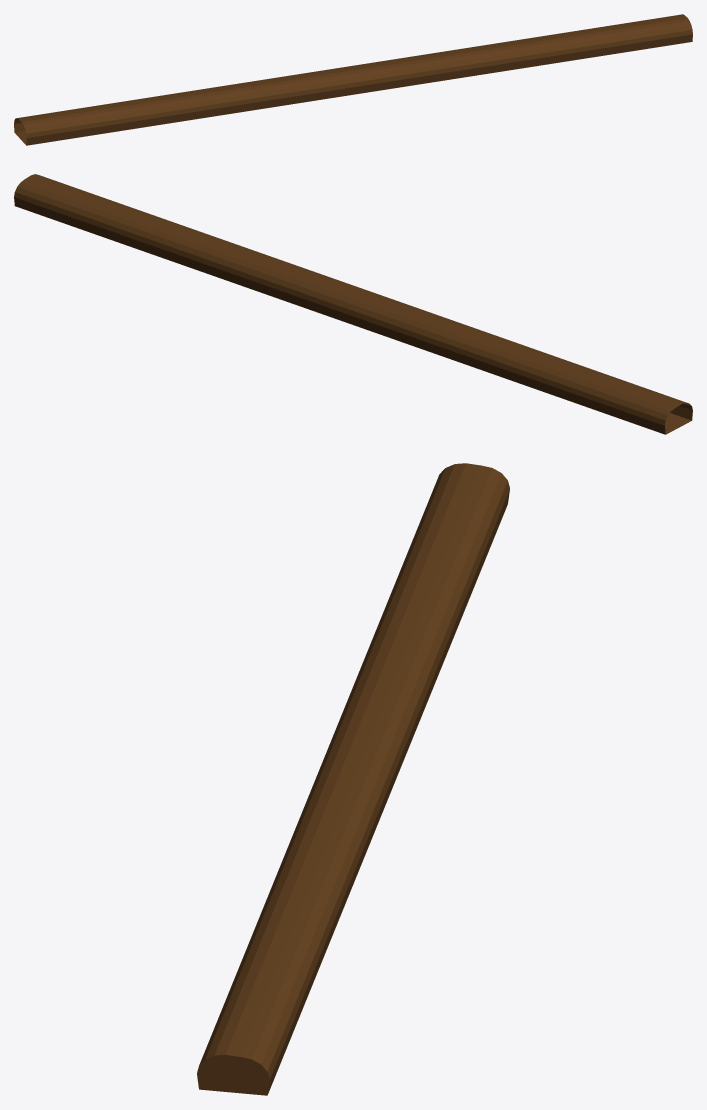
File: circle.182_lev2.glb
3 views of the same model, one above another, from view 1: azimuth 30°, elevation 25°; view 2: azimuth 150°, elevation 25°; view 3: azimuth 270°, elevation 25° (orthographic). The views are drawn at different scales.
Visible parts, largest first — view 1: circle.182_lev2; view 2: circle.182_lev2; view 3: circle.182_lev2.
Part boxes in pixels (x1,y1,x2,y2): circle.182_lev2: (14, 14, 692, 145); circle.182_lev2: (14, 174, 692, 434); circle.182_lev2: (197, 463, 509, 1095).
Size of the model in its own units: 0.9959 by 0.0295 by 0.2209.
Materials: 1 (1 with a texture image).
